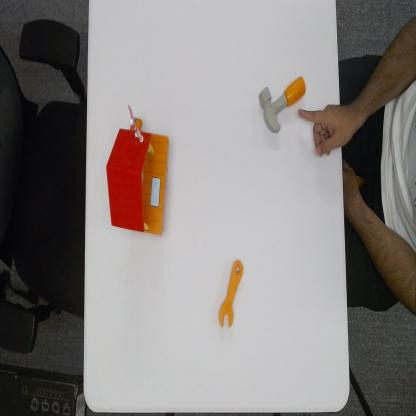Hammer: (258, 76, 308, 134)
Hand: (298, 103, 343, 157)
House: (104, 102, 170, 236)
Screwdriver: (216, 257, 244, 330)
